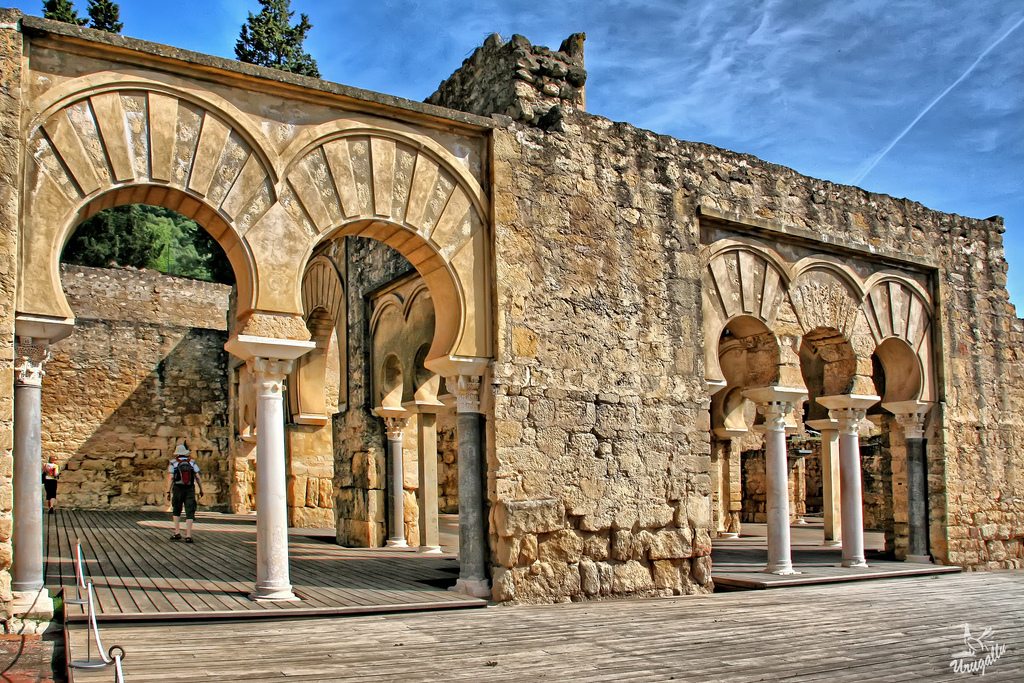arco-herradura: (27, 172, 269, 390), (273, 202, 475, 405), (708, 303, 786, 421), (783, 317, 863, 424), (859, 331, 929, 419)
